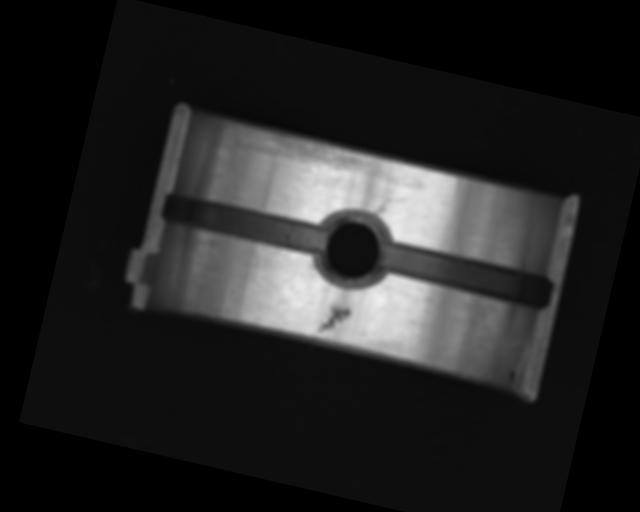blot: (506, 367, 519, 385)
bruise: (315, 298, 354, 339)
gap: (377, 238, 554, 310), (159, 188, 329, 257)
hole: (308, 204, 396, 292)
nick: (372, 195, 391, 219)
scratch: (223, 116, 377, 182)
